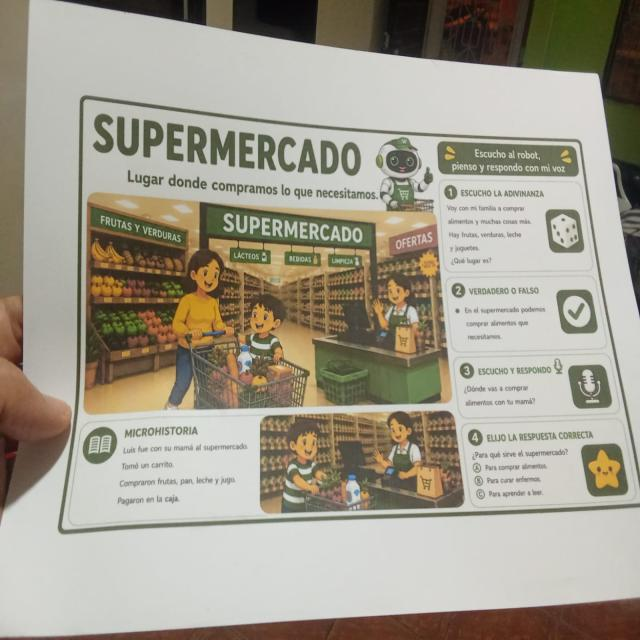supermercado: (55, 91, 640, 540)
